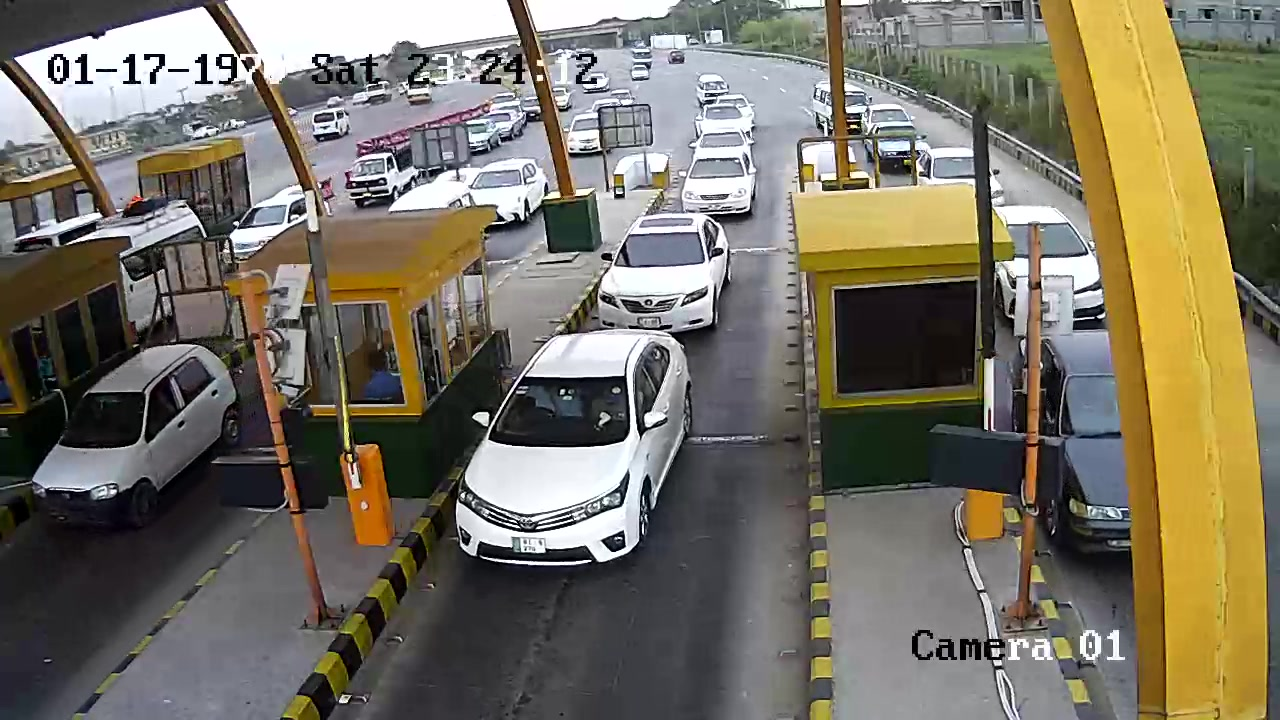F1: (456, 327, 709, 570), (598, 210, 737, 340)
